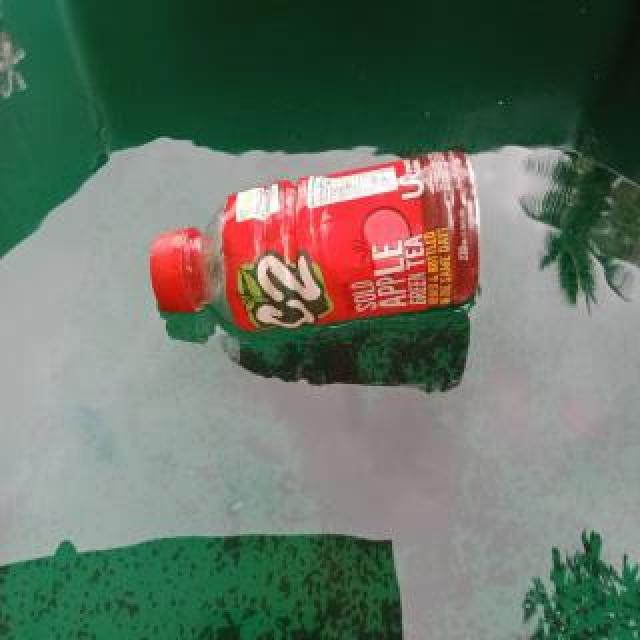bottle: (151, 143, 483, 325)
